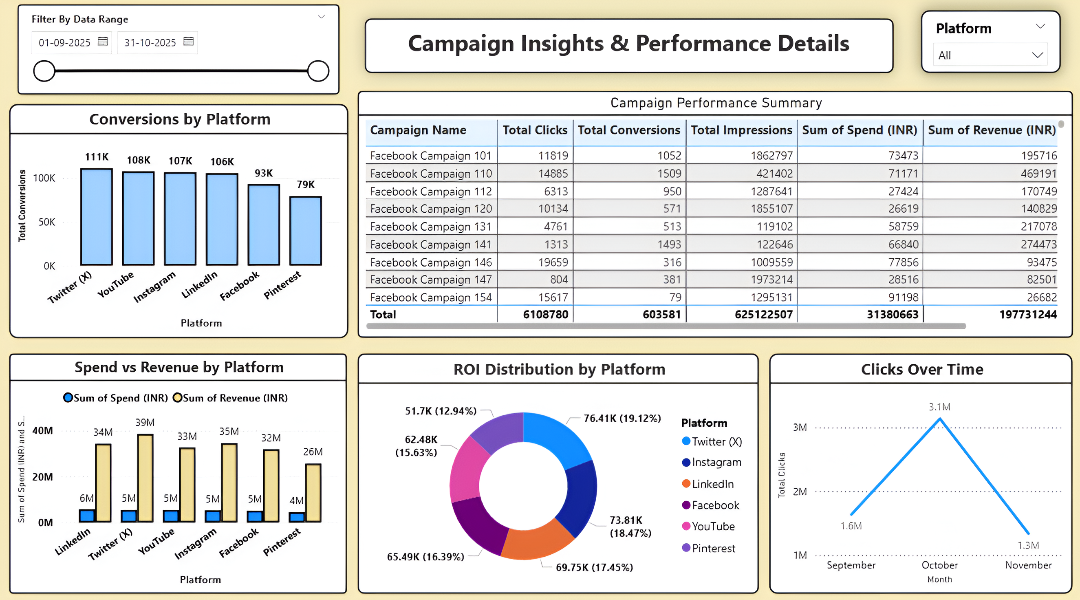

The page's visual inventory and layout, read from the dashboard file:
{"tool":"powerbi","page":{"name":"Insights","canvas":[1280,720],"ordinal":1},"visuals":[{"type":"lineChart","title":"Clicks Over Time","fields":{"Category":["Data.End Date.Variation.Date Hierarchy.Month"],"Y":["Data.Total Clicks"]},"box":[912.1,424.7,359.5,284.7],"z":0},{"type":"clusteredColumnChart","title":"Conversions by Platform","fields":{"Category":["Data.Platform"],"Y":["Data.Total Conversions"]},"box":[12.1,129.1,401.7,277.5],"z":1000},{"type":"tableEx","title":"Campaign Performance Summary","fields":{"Values":["Data.Campaign Name","Data.Total Clicks","Data.Total Conversions","Data.Total Impressions","Sum(Data.Spend (INR))","Sum(Data.Revenue (INR))","Sum(Data.ROI (%))"]},"box":[424.7,113.4,846.9,293.2],"z":2000},{"type":"slicer","fields":{"Values":["Data.Start Date"]},"box":[21.7,10.9,381.2,107.4],"z":3000},{"type":"textbox","box":[433.1,27.7,626.1,65.1],"z":4000},{"type":"donutChart","title":"ROI Distribution by Platform","fields":{"Y":["Sum(Data.ROI (%))"],"Category":["Data.Platform"]},"box":[424.7,424.7,475.3,284.7],"z":5000},{"type":"clusteredColumnChart","title":"Spend vs Revenue by Platform","fields":{"Category":["Data.Platform"],"Y":["Sum(Data.Spend (INR))","Sum(Data.Revenue (INR))"]},"box":[12.1,424.7,400,285],"z":6000},{"type":"slicer","fields":{"Values":["Data.Platform"]},"box":[1091.8,18.1,165.3,74.8],"z":7000}]}

Visuals, with their boxes in screenshot pixels (x1, y1, x2, y2), scaled from the page's 1280x720 canvas onto the 1080x600 screenshot:
"Clicks Over Time" lineChart: x1=770 y1=354 x2=1073 y2=591
"Conversions by Platform" clusteredColumnChart: x1=10 y1=108 x2=349 y2=339
"Campaign Performance Summary" tableEx: x1=358 y1=95 x2=1073 y2=339
slicer - Data.Start Date: x1=18 y1=9 x2=340 y2=99
textbox: x1=365 y1=23 x2=894 y2=77
"ROI Distribution by Platform" donutChart: x1=358 y1=354 x2=759 y2=591
"Spend vs Revenue by Platform" clusteredColumnChart: x1=10 y1=354 x2=348 y2=591
slicer - Data.Platform: x1=921 y1=15 x2=1061 y2=77
